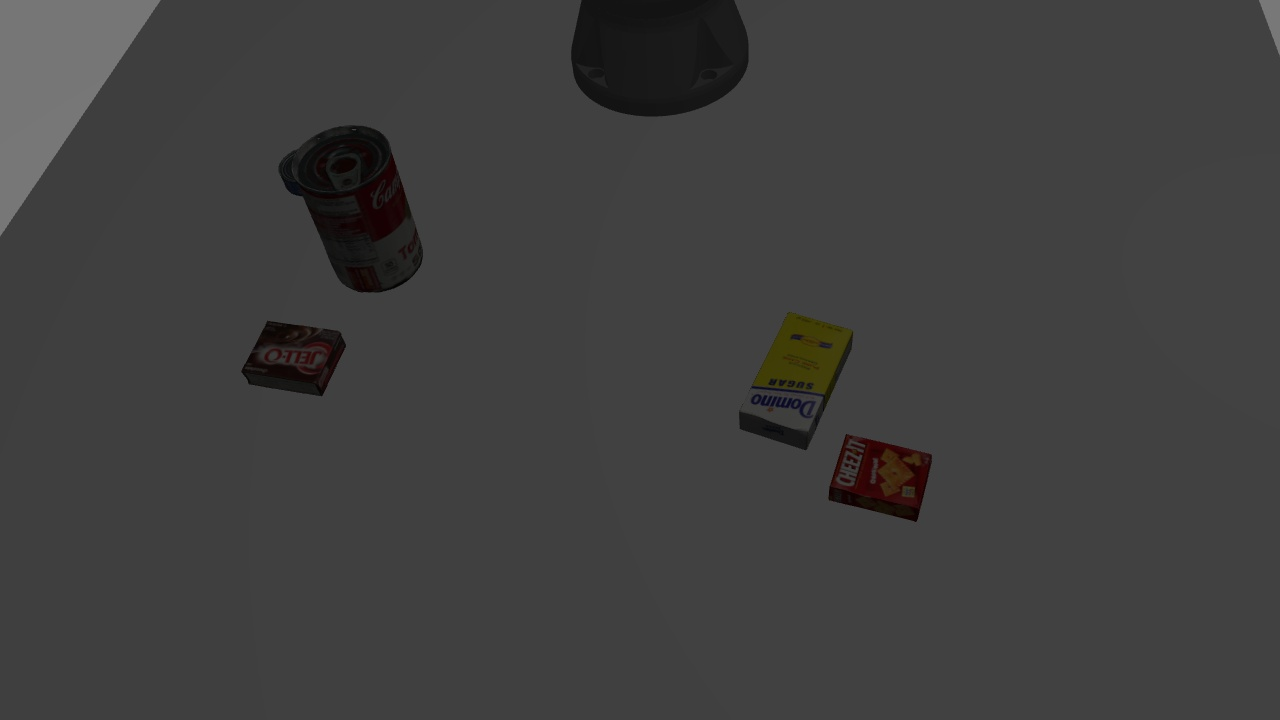cracker_box: (827, 430, 937, 522)
pudding_box: (242, 318, 347, 399)
sugar_box: (730, 304, 857, 457)
tomato_soup_can: (296, 123, 426, 294)
